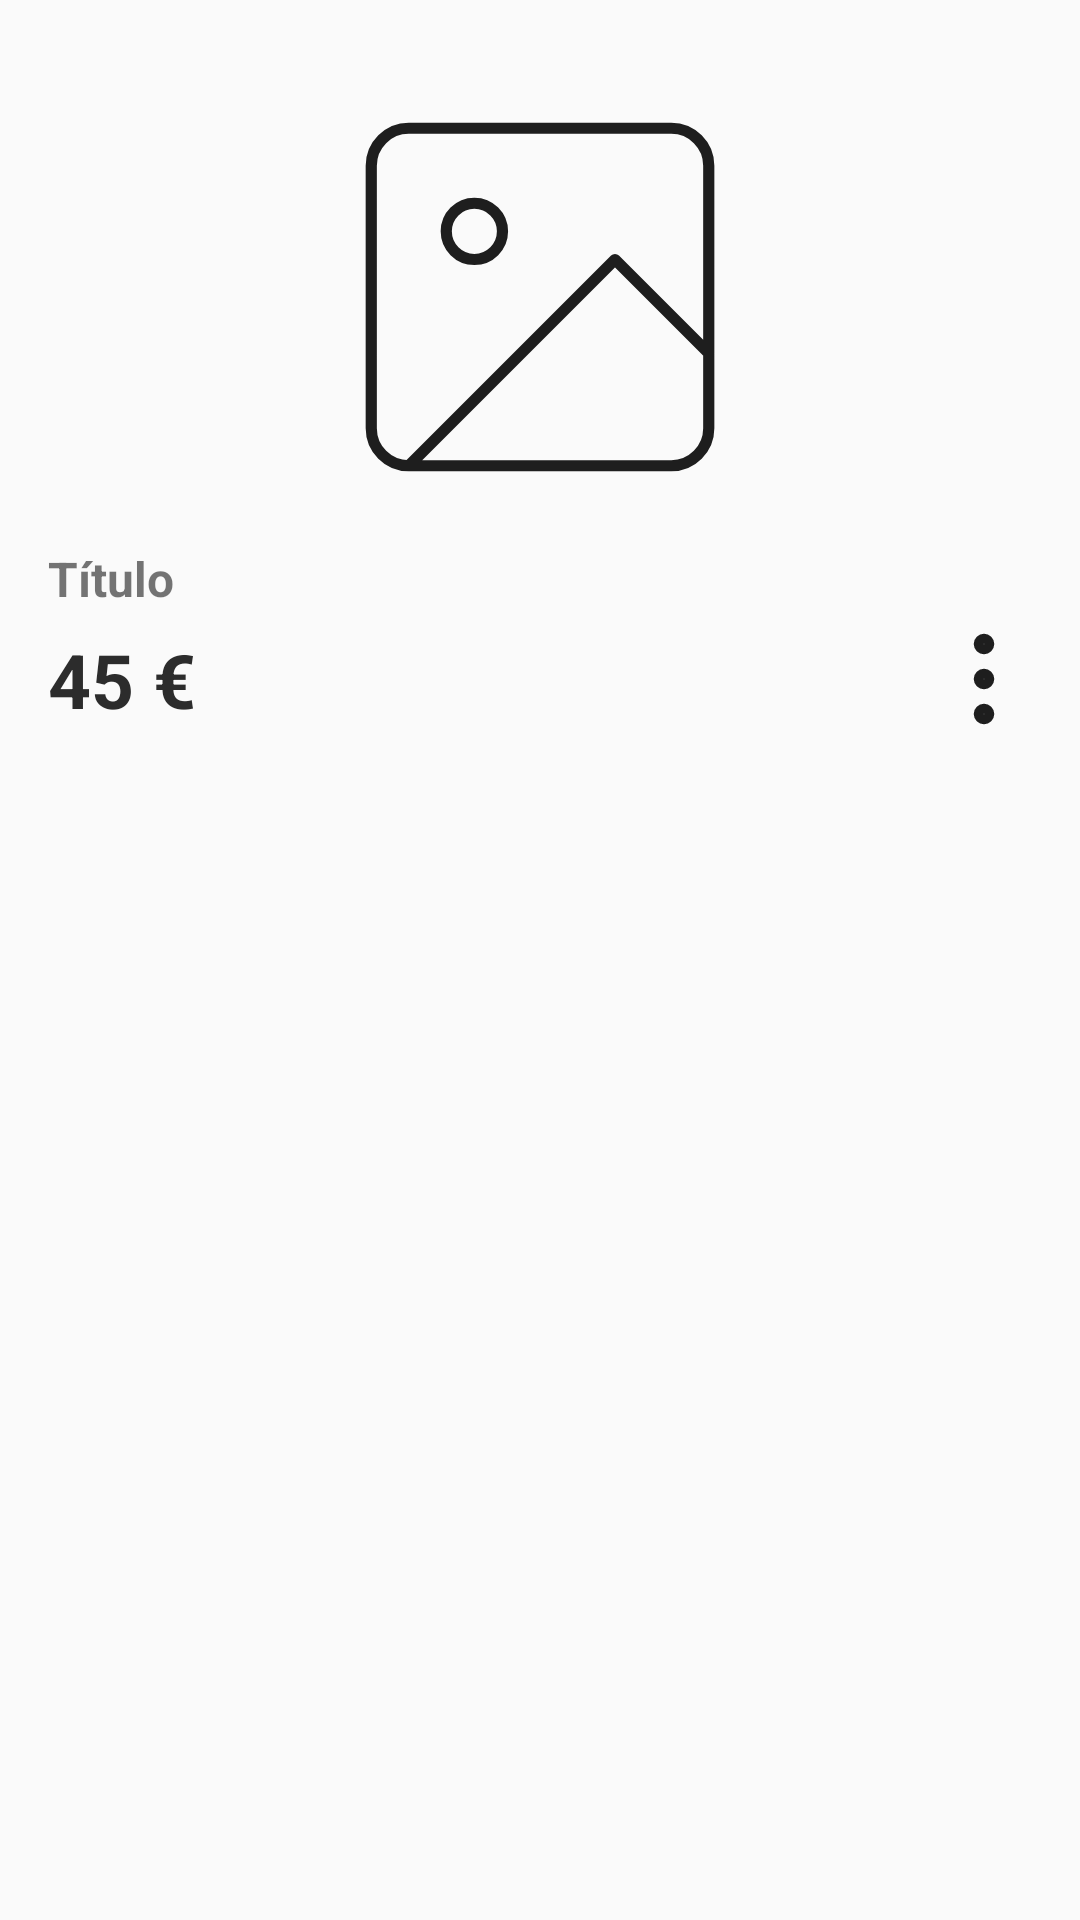

Icons on this 1080w x 1920h Android screen, each with the point to tap as point (x, y):
more: point (984, 679)
